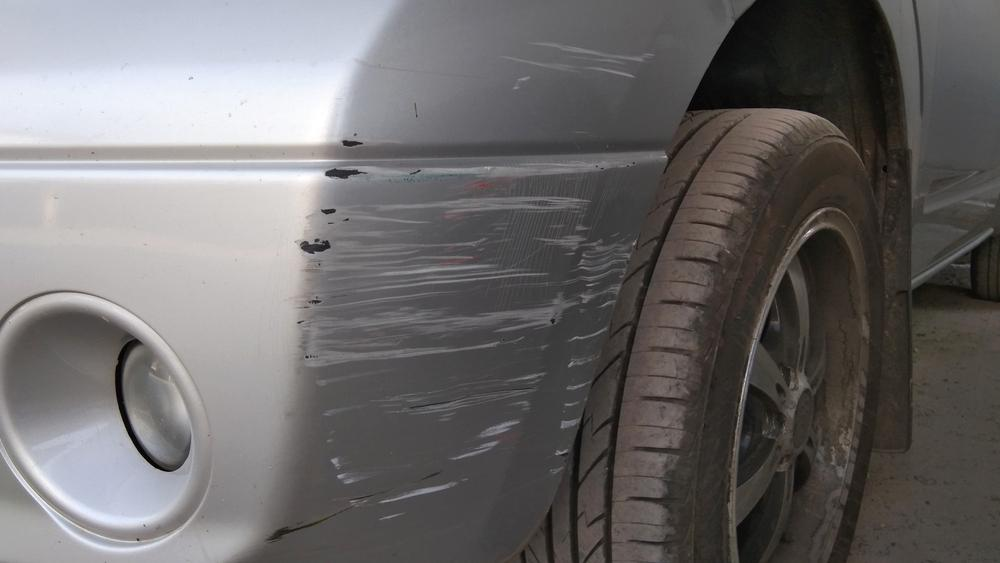scratch: (264, 33, 655, 541)
